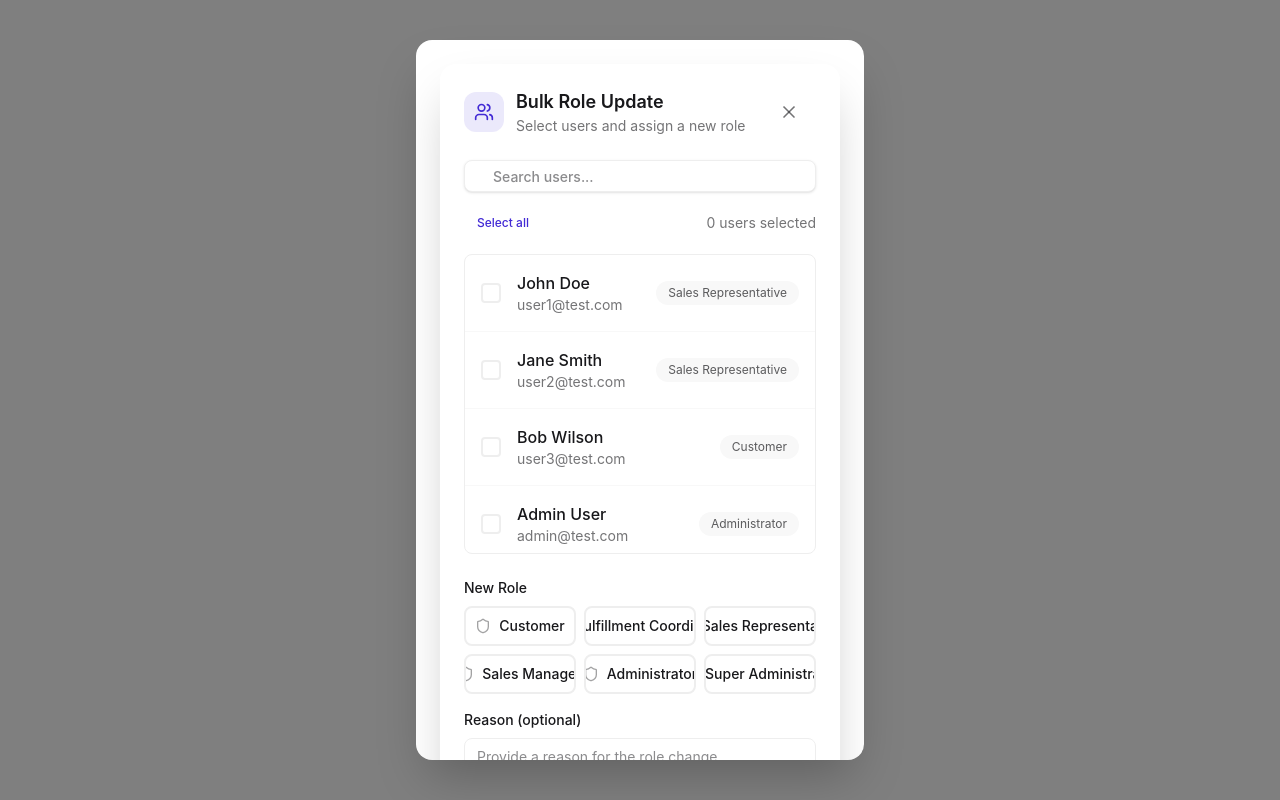
Test case: BulkRoleModal Component › Form Submission › should show loading state during submission
Note: Select users
Click the button "Select all" at {"x": 503, "y": 223}, box [464,208,542,238]
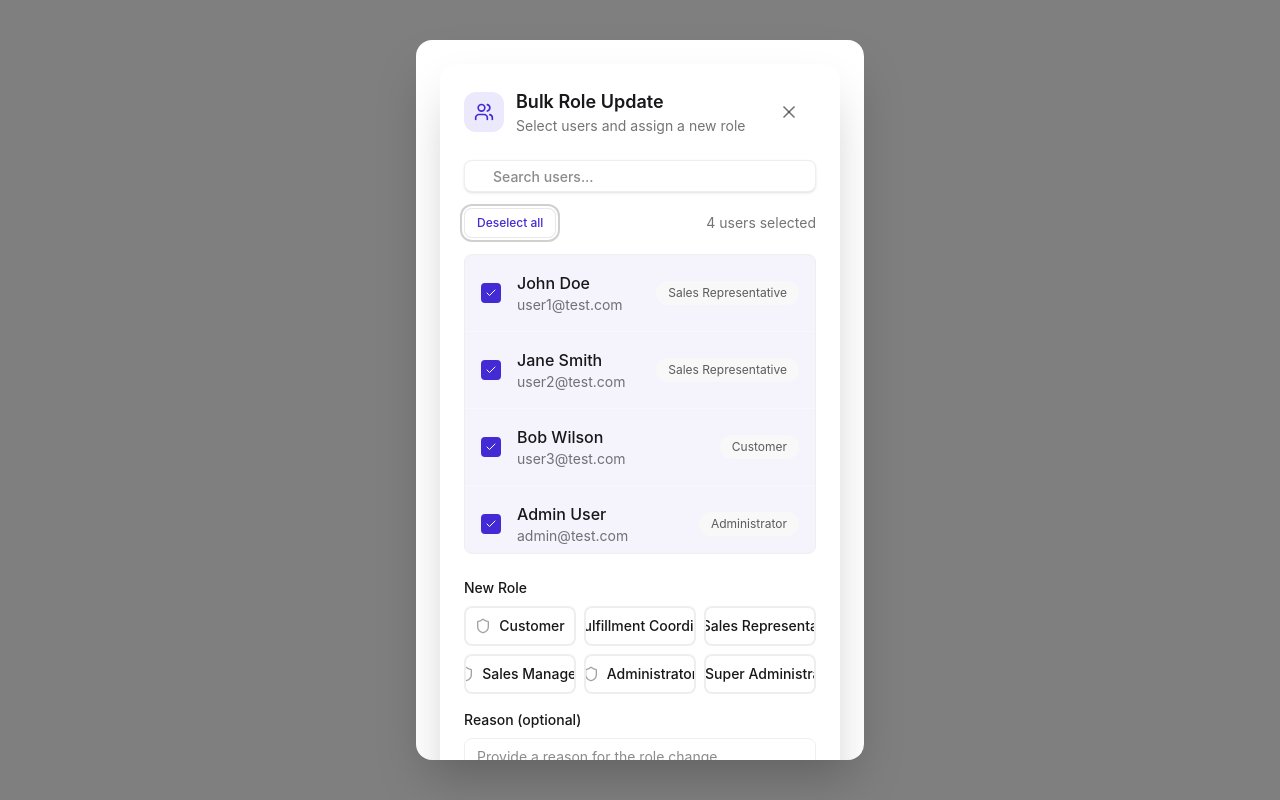
Note: Select role
Click the button "Sales Manager" at {"x": 520, "y": 674}, box [464,654,576,694]
(page scrolled)
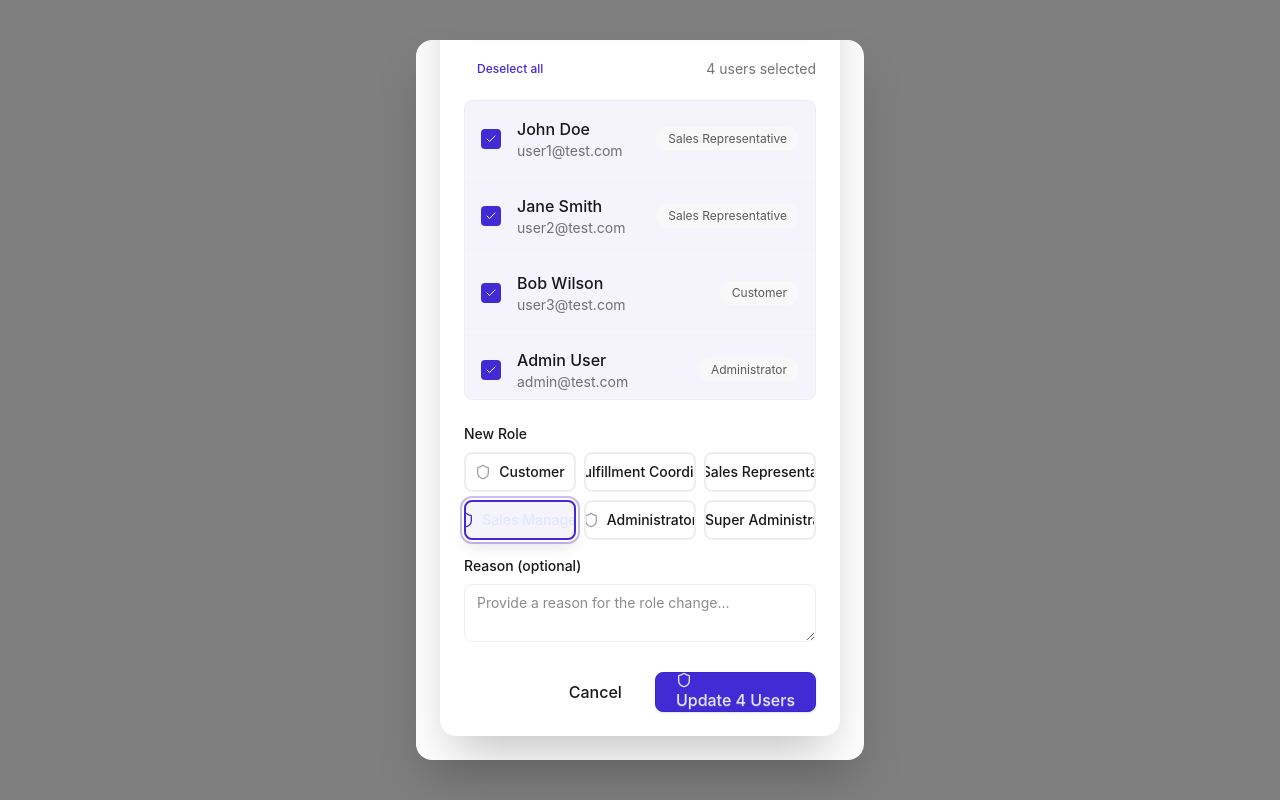
Click the button "Update 4 Users" at {"x": 735, "y": 692}, box [655,672,816,712]
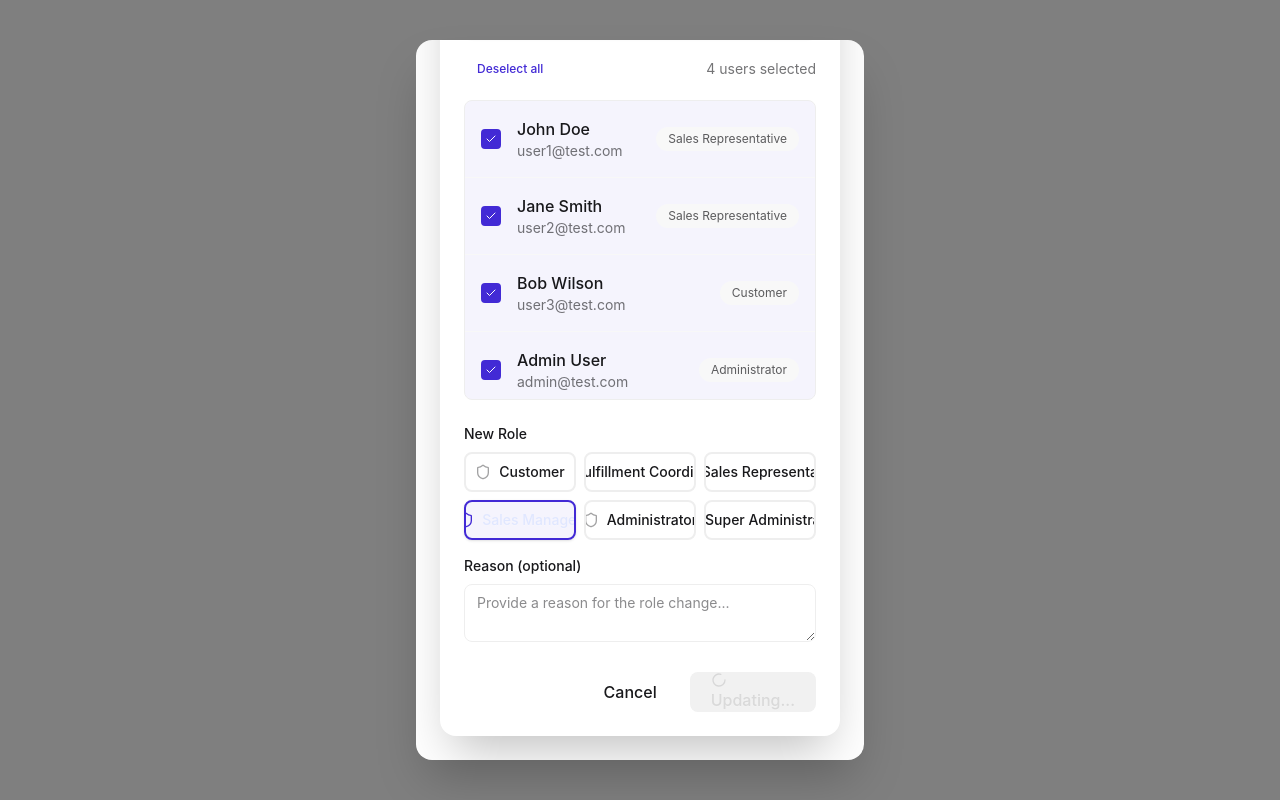
Check: the text "Updating..." is shown, box [711,672,795,712]
